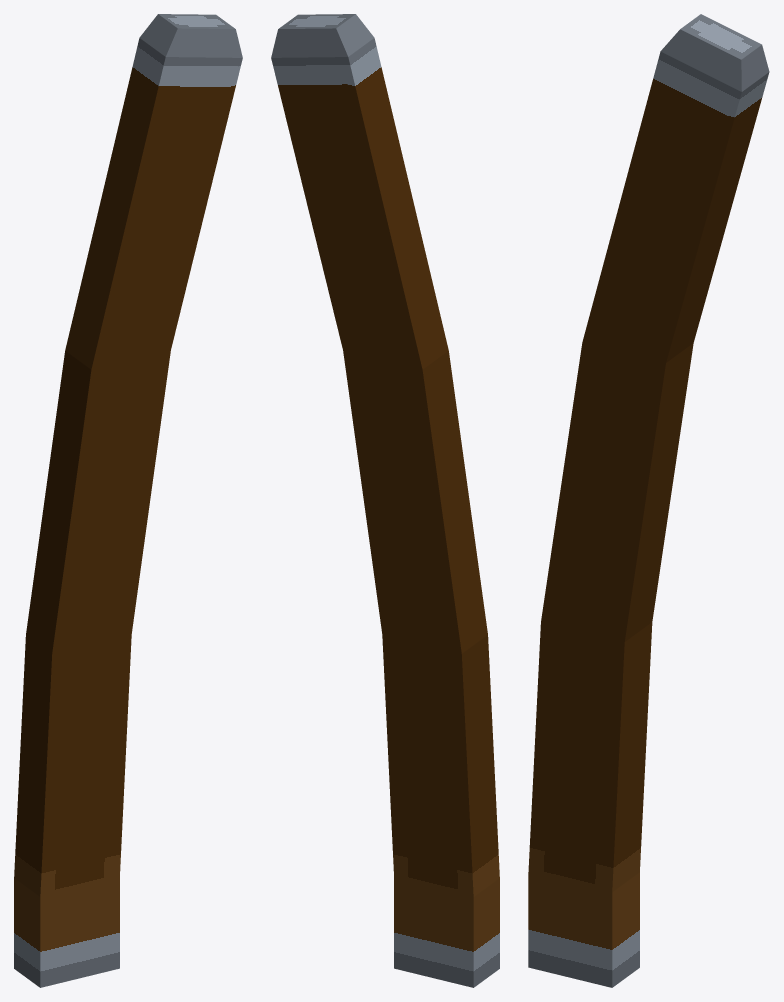
File: Katana Sheath.fbx
3 renders of one model, left to right at view 1: azimuth 30°, elevation 25°; view 2: azimuth 150°, elevation 25°; view 3: azimuth 330°, elevation 25°, orthographic. The views are drawn at different scales.
Visible parts, largest first — view 1: Katana Sheath; view 2: Katana Sheath; view 3: Katana Sheath.
Part boxes in pixels (x1,y1,x2,y2): Katana Sheath: (14,14,242,987); Katana Sheath: (271,14,499,987); Katana Sheath: (528,14,769,987).
Bounding box in the file's own units: 0.2873 × 1.25 × 0.0645.
Materials: 1 (1 with a texture image).
